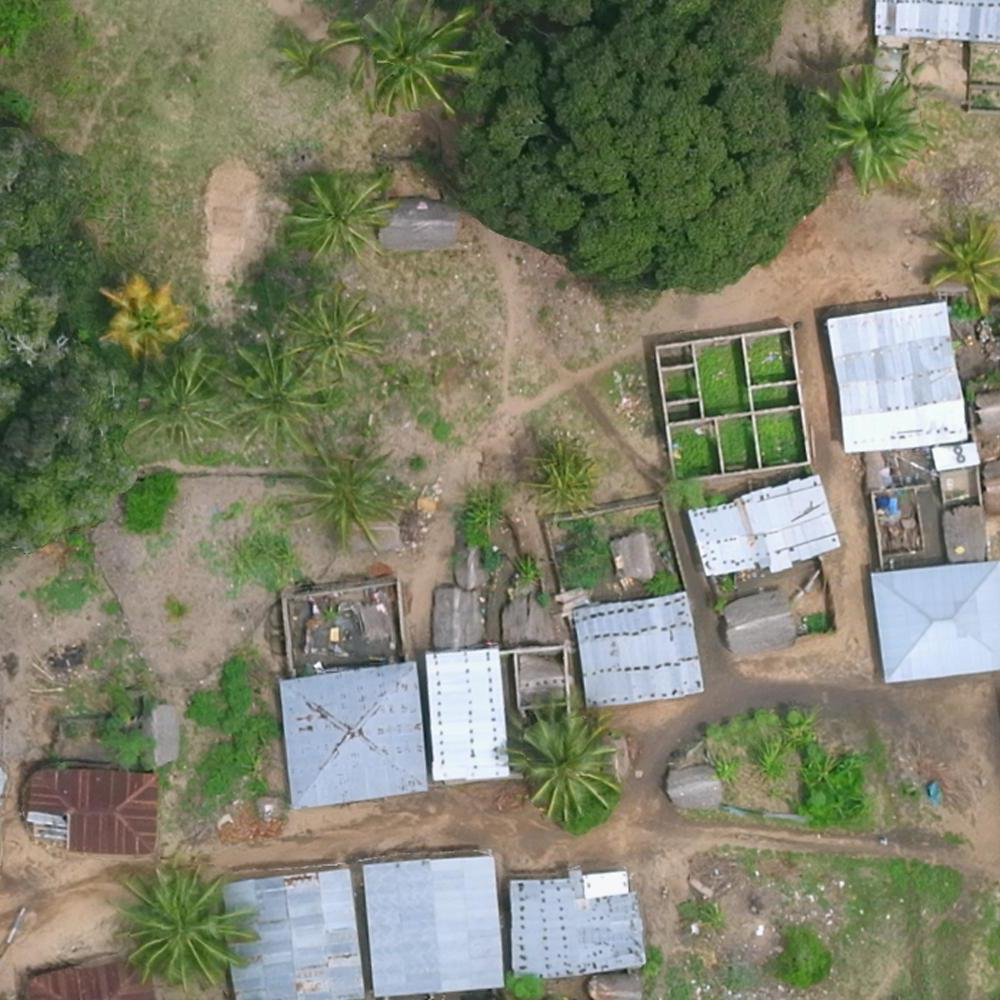Palm: (121, 867, 243, 982), (508, 698, 615, 817), (294, 442, 401, 550), (359, 9, 472, 111), (820, 65, 922, 177), (222, 345, 324, 443), (284, 169, 386, 260), (284, 285, 382, 376), (136, 366, 230, 455), (99, 274, 187, 354), (922, 207, 996, 302)
